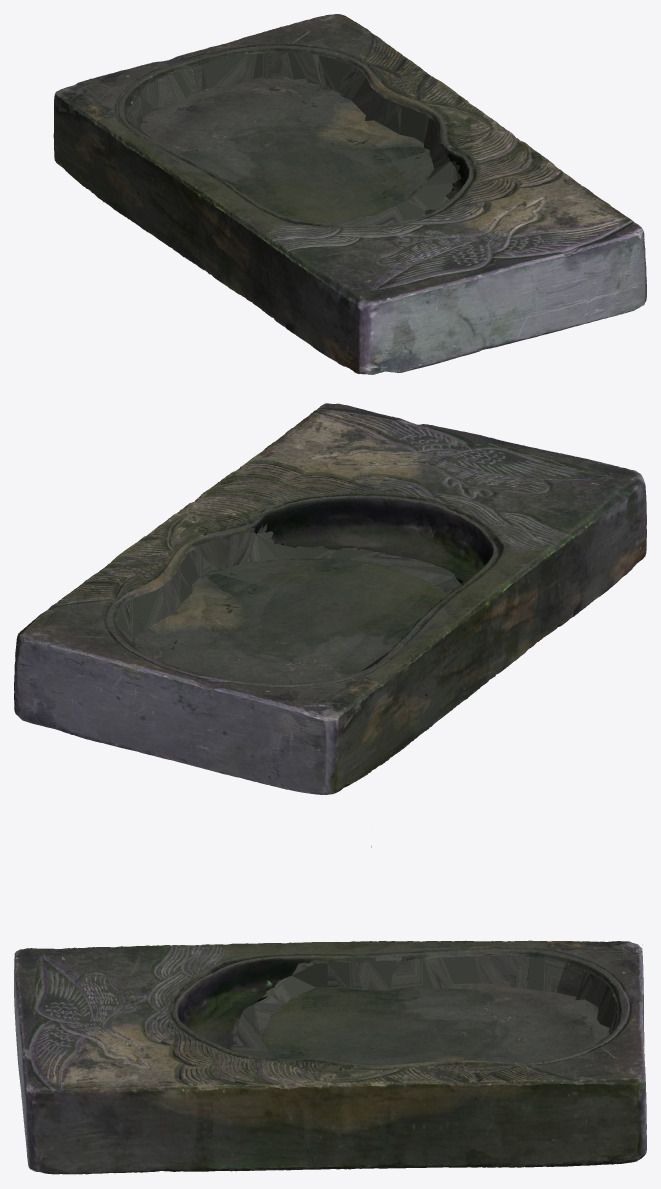
Rendered from nghien muc.glb.
3 renders of one model, top to bottom at view 1: azimuth 30°, elevation 25°; view 2: azimuth 150°, elevation 25°; view 3: azimuth 270°, elevation 25°, orthographic. The views are drawn at different scales.
Parts seen in each view (by area): view 1: Model_Model_0_0; view 2: Model_Model_0_0; view 3: Model_Model_0_0.
Part boxes in pixels (x1,y1,x2,y2): Model_Model_0_0: (53, 14, 646, 374); Model_Model_0_0: (14, 403, 646, 847); Model_Model_0_0: (14, 940, 646, 1174).
Bounding box in the file's own units: 16.69 × 7.05 × 25.61.
1 material, 1 textured.
